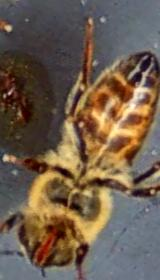varroa_mite: (70, 114, 92, 138)
